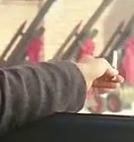smoke: (111, 48, 119, 69)
